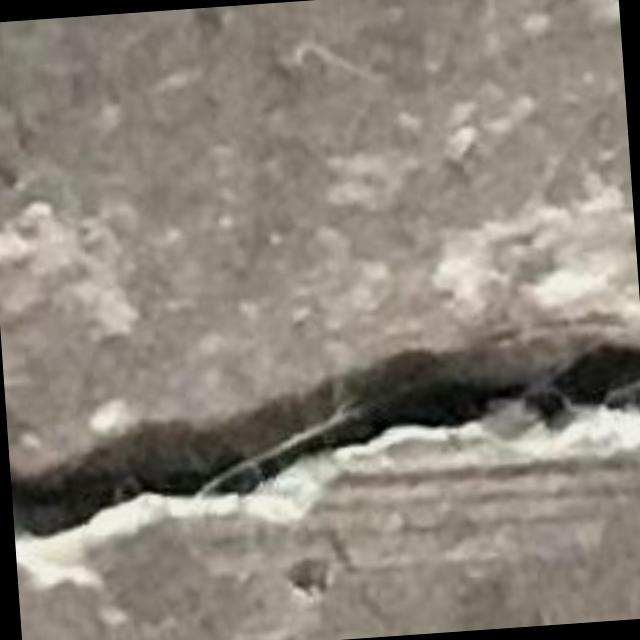crack: (10, 341, 639, 540)
